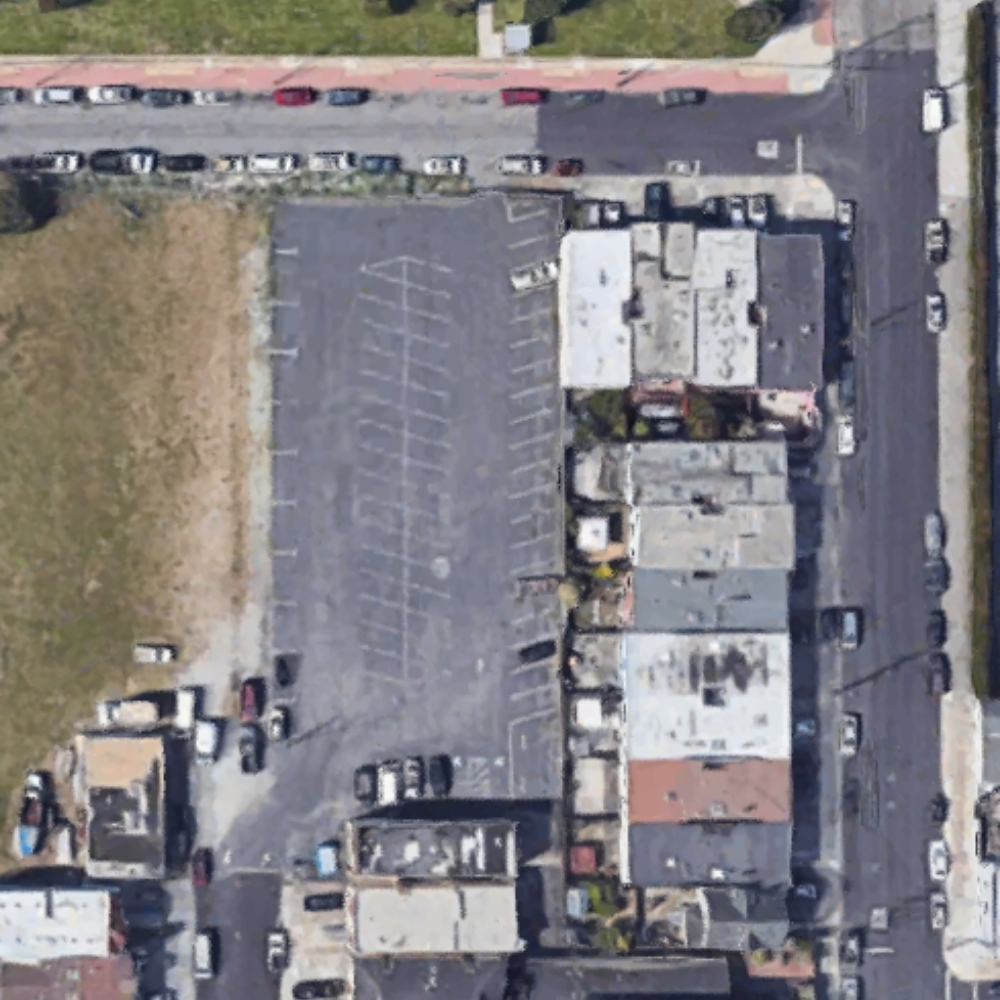parking: (270, 200, 555, 815)
